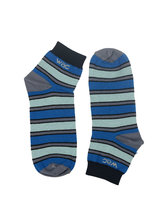sock: (18, 44, 87, 183), (88, 48, 147, 187)
